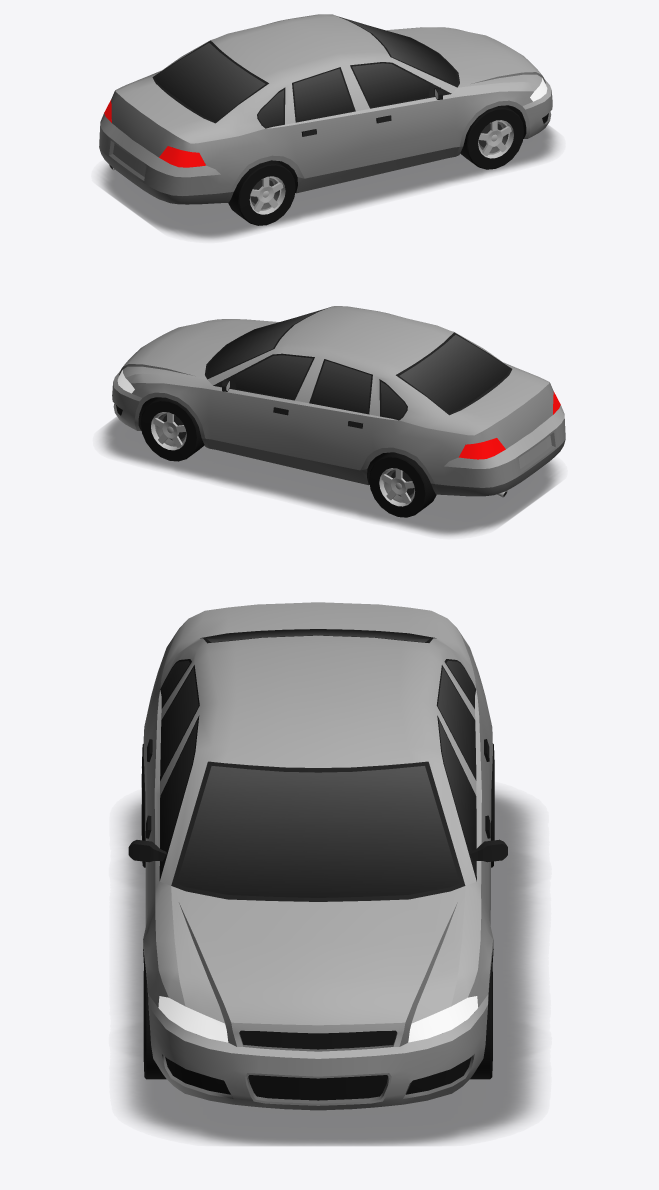
The picture shows the model from 3 angles, top to bottom: view 1: azimuth 30°, elevation 25°; view 2: azimuth 150°, elevation 25°; view 3: azimuth 270°, elevation 25°; orthographic projection. The views are drawn at different scales.
Visible parts, largest first — view 1: ARCADE_UVP_ColorVar4_Material.001_0_0_Ext, Shadow; view 2: ARCADE_UVP_ColorVar4_Material.001_0_0_Ext, Shadow; view 3: ARCADE_UVP_ColorVar4_Material.001_0_0_Ext, Shadow.
Part boxes in pixels (left/top/right/bottom): ARCADE_UVP_ColorVar4_Material.001_0_0_Ext: left=99, top=14, right=552, bottom=225; Shadow: left=99, top=125, right=557, bottom=239; ARCADE_UVP_ColorVar4_Material.001_0_0_Ext: left=112, top=306, right=565, bottom=517; Shadow: left=101, top=417, right=559, bottom=535; ARCADE_UVP_ColorVar4_Material.001_0_0_Ext: left=128, top=602, right=507, bottom=1110; Shadow: left=122, top=790, right=538, bottom=1145.
Size of the model in its own units: 5.41 by 1.47 by 3.36.
Materials: 4 (4 with a texture image).
